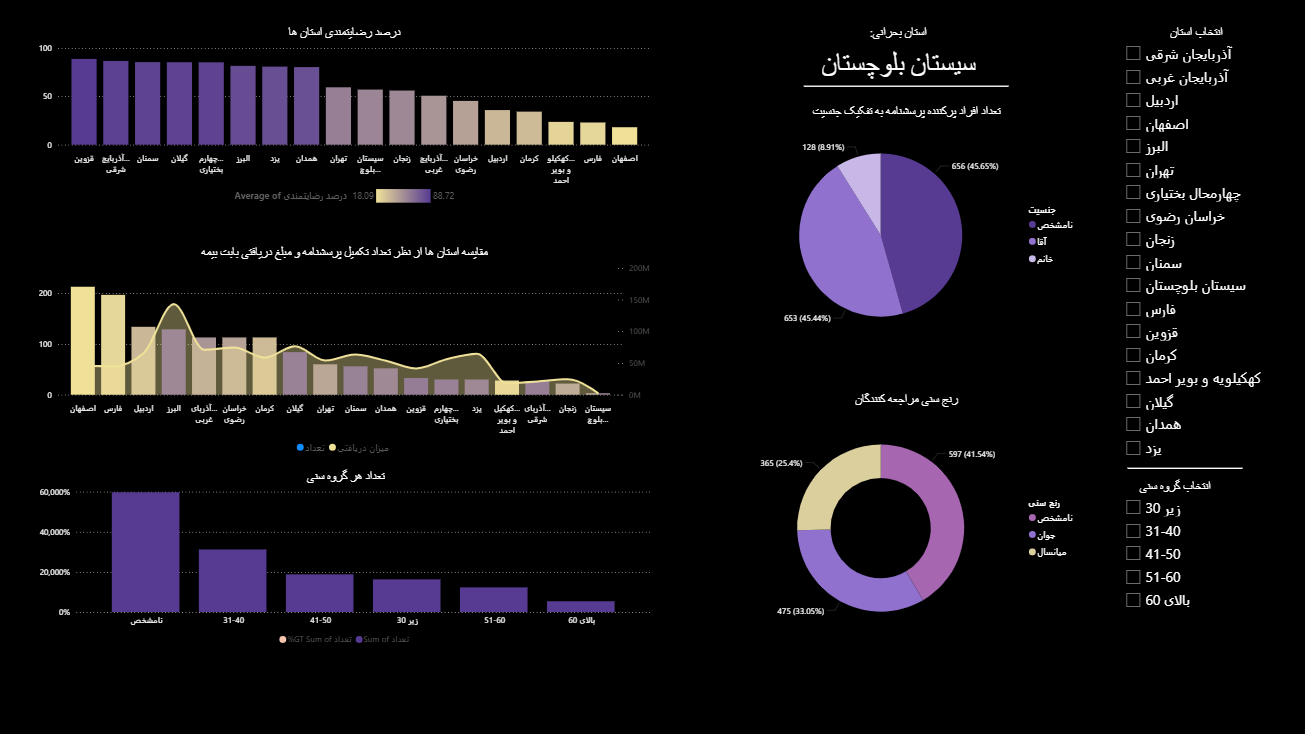

The page's visual inventory and layout, read from the dashboard file:
{"tool":"powerbi","page":{"name":"differences","canvas":[1920,1080],"ordinal":1},"visuals":[{"type":"lineClusteredColumnComboChart","title":"مقایسه استان ها از نظر تعداد تکمیل پرسشنامه و مبلغ دریافتی بابت بیمه","fields":{"Category":["FACT_DATA.استان محل دریافت خدمت"],"Y2":["Sum(FACT_DATA.میزان پرداخت)"],"Y":["Sum(FACT_DATA.تعداد)"]},"box":[51.4,363.2,908,315.5],"z":0},{"type":"columnChart","title":"درصد رضایتمندی استان ها","fields":{"Category":["FACT_DATA.استان"],"Y":["Avg(FACT_DATA.درصد رضایتمندی)"]},"box":[51.4,40.4,908,271.5],"z":1000},{"type":"slicer","title":"انتخاب گروه سنی","fields":{"Values":["age_helper.گروه سنی"]},"box":[1640.3,705.4,169,206.6],"z":2000},{"type":"columnChart","title":"تعداد هر گروه سنی","fields":{"Y":["Sum(FACT_DATA.تعداد)","Sum(FACT_DATA.تعداد)1"],"Category":["FACT_DATA.گروه سنی"]},"box":[53.2,691.5,908,267.8],"z":3000},{"type":"donutChart","title":"رنج سنی مراجعه کنندگان","fields":{"Category":["FACT_DATA.رنج سنی"],"Y":["Sum(FACT_DATA.تعداد)"]},"box":[1070.6,580.2,517.6,377.7],"z":4000},{"type":"pieChart","title":"تعداد افراد پرکننده پرسشنامه به تفکیک جنسیت","fields":{"Category":["FACT_DATA.جنسیت"],"Y":["Sum(FACT_DATA.تعداد)"]},"box":[1070.6,156.5,517.6,365.2],"z":5000},{"type":"slicer","title":"انتخاب استان","fields":{"Values":["FACT_QUESTIONS.استان"]},"box":[1640.3,39.7,231.7,651.1],"z":6000},{"type":"card","title":":استان بحرانی","fields":{"Values":["Min(FACT_DATA.استان)"]},"box":[1049.7,39.7,538.4,89.7],"z":7000},{"type":"shape","box":[1655,611.5,169,158.6],"z":8000},{"type":"shape","box":[1179.1,14.6,300.5,229.6],"z":9000}]}

Visuals, with their boxes in screenshot pixels (x1, y1, x2, y2), scaled from the page's 1920x1080 canvas onto the 1305x734 screenshot:
"مقایسه استان ها از نظر تعداد تکمیل پرسشنامه و مبلغ دریافتی بابت بیمه" lineClusteredColumnComboChart: (35,247,652,461)
"درصد رضایتمندی استان ها" columnChart: (35,27,652,212)
"انتخاب گروه سنی" slicer: (1115,479,1230,620)
"تعداد هر گروه سنی" columnChart: (36,470,653,652)
"رنج سنی مراجعه کنندگان" donutChart: (728,394,1079,651)
"تعداد افراد پرکننده پرسشنامه به تفکیک جنسیت" pieChart: (728,106,1079,355)
"انتخاب استان" slicer: (1115,27,1272,469)
":استان بحرانی" card: (713,27,1079,88)
shape: (1125,416,1240,523)
shape: (801,10,1006,166)
